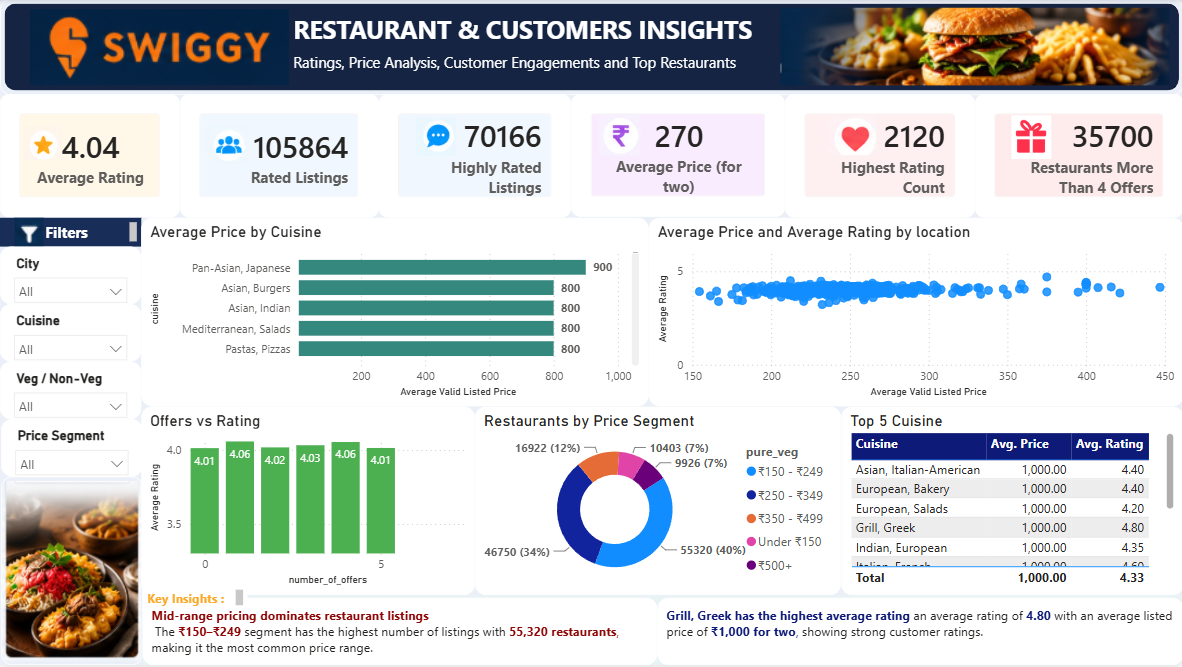

Layout of this report page (visuals, bound fields, positions):
{"tool":"powerbi","page":{"name":"Restaurants & Customer Insights","canvas":[1280,720],"ordinal":1},"visuals":[{"type":"cardVisual","fields":{"Data":["swiggy_restaurant_analytics swiggy_cleaned.Average Rating"]},"box":[0,102.7,194.7,133.8],"z":0},{"type":"shape","box":[0,0,1280.3,104.1],"z":1000},{"type":"textbox","box":[312.3,9.5,516.4,83.8],"z":2000},{"type":"textbox","box":[312.3,52.7,584,31.1],"z":3000},{"type":"image","box":[1.4,516.4,152.8,204.1],"z":4000},{"type":"image","box":[32.4,1.4,279.8,101.4],"z":5000},{"type":"image","box":[828.7,9.5,451.5,83.8],"z":6000},{"type":"textbox","box":[0,236.6,152.8,31.1],"z":7000},{"type":"image","box":[14.9,236.6,32.4,31.1],"z":8000},{"type":"cardVisual","fields":{"Data":["swiggy_restaurant_analytics swiggy_cleaned.Rated Listings"]},"box":[194.7,102.7,215,133.8],"z":9000},{"type":"cardVisual","fields":{"Data":["swiggy_restaurant_analytics swiggy_cleaned.Total Reviews"]},"box":[409.6,102.7,208.2,133.8],"z":10000},{"type":"cardVisual","fields":{"Data":["swiggy_restaurant_analytics swiggy_cleaned.Average Listed Price"]},"box":[617.8,102.7,231.2,132.5],"z":11000},{"type":"cardVisual","fields":{"Data":["swiggy_restaurant_analytics swiggy_cleaned.Highest Rating"]},"box":[849,102.7,205.5,133.8],"z":12000},{"type":"cardVisual","fields":{"Data":["swiggy_restaurant_analytics swiggy_cleaned.Restaurants With Offers"]},"box":[1054.2,102.7,225.8,133.8],"z":13000},{"type":"slicer","fields":{"Values":["swiggy_restaurant_analytics swiggy_cleaned.location"]},"box":[0,267.7,152.8,62.2],"z":14000},{"type":"slicer","fields":{"Values":["swiggy_restaurant_analytics swiggy_cleaned.cuisine"]},"box":[0,329.9,152.8,62.2],"z":15000},{"type":"slicer","fields":{"Values":["swiggy_restaurant_analytics swiggy_cleaned.pure_veg"]},"box":[0,392.1,152.8,62.2],"z":16000},{"type":"slicer","fields":{"Values":["swiggy_restaurant_analytics swiggy_cleaned.Price Segment"]},"box":[1.4,454.2,152.8,62.2],"z":17000},{"type":"clusteredColumnChart","title":"Offers vs Rating","fields":{"Category":["swiggy_restaurant_analytics swiggy_cleaned.number_of_offers"],"Y":["swiggy_restaurant_analytics swiggy_cleaned.Average Rating"]},"box":[152.8,440.7,361,204.1],"z":18000},{"type":"donutChart","title":"Restaurants by Price Segment","fields":{"Category":["swiggy_restaurant_analytics swiggy_cleaned.Price Segment"],"Y":["swiggy_restaurant_analytics swiggy_cleaned.Total Listings"]},"box":[513.7,440.7,396.1,204.1],"z":19000},{"type":"textbox","box":[154.1,644.9,1126.2,75.7],"z":20000},{"type":"textbox","box":[154.1,647.6,557,73],"z":21000},{"type":"textbox","box":[154.1,634.1,113.6,27],"z":23000},{"type":"textbox","box":[711.1,647.6,569.2,73],"z":24000},{"type":"image","box":[25.7,132.5,41.9,47.3],"z":25000},{"type":"image","box":[224.4,132.5,43.3,47.3],"z":26000},{"type":"image","box":[447.5,128.4,48.7,41.9],"z":27000},{"type":"image","box":[639.5,124.4,62.2,46],"z":28000},{"type":"image","box":[892.3,124.4,59.5,44.6],"z":29000},{"type":"image","box":[1088.3,125.7,54.1,47.3],"z":30000},{"type":"scatterChart","title":"Average Price and Average Rating by location","fields":{"Y":["swiggy_restaurant_analytics swiggy_cleaned.Average Rating"],"X":["swiggy_restaurant_analytics swiggy_cleaned.Average Valid Listed Price"],"Category":["swiggy_restaurant_analytics swiggy_cleaned.location"]},"box":[701.6,236.6,578.6,204.1],"z":31000},{"type":"clusteredBarChart","title":"Average  Price by Cuisine","fields":{"Category":["swiggy_restaurant_analytics swiggy_cleaned.cuisine"],"Y":["swiggy_restaurant_analytics swiggy_cleaned.Average Valid Listed Price"]},"box":[152.8,236.6,548.9,204.1],"z":32000},{"type":"tableEx","title":"Top 5 Cuisine","fields":{"Values":["swiggy_restaurant_analytics swiggy_cleaned.cuisine","swiggy_restaurant_analytics swiggy_cleaned.Average Valid Listed Price","swiggy_restaurant_analytics swiggy_cleaned.Average Rating"]},"box":[909.6,440.7,370.4,204.1],"z":33000}]}

Visuals, with their boxes in screenshot pixels (x1, y1, x2, y2), scaled from the page's 1280x720 canvas onto the 1182x667 screenshot:
cardVisual - swiggy_restaurant_analytics swiggy_cleaned.Average Rating: BBox(0, 95, 180, 219)
shape: BBox(0, 0, 1181, 96)
textbox: BBox(288, 9, 765, 86)
textbox: BBox(288, 49, 828, 78)
image: BBox(1, 478, 142, 666)
image: BBox(30, 1, 288, 95)
image: BBox(765, 9, 1181, 86)
textbox: BBox(0, 219, 141, 248)
image: BBox(14, 219, 44, 248)
cardVisual - swiggy_restaurant_analytics swiggy_cleaned.Rated Listings: BBox(180, 95, 378, 219)
cardVisual - swiggy_restaurant_analytics swiggy_cleaned.Total Reviews: BBox(378, 95, 570, 219)
cardVisual - swiggy_restaurant_analytics swiggy_cleaned.Average Listed Price: BBox(570, 95, 784, 218)
cardVisual - swiggy_restaurant_analytics swiggy_cleaned.Highest Rating: BBox(784, 95, 974, 219)
cardVisual - swiggy_restaurant_analytics swiggy_cleaned.Restaurants With Offers: BBox(973, 95, 1181, 219)
slicer - swiggy_restaurant_analytics swiggy_cleaned.location: BBox(0, 248, 141, 306)
slicer - swiggy_restaurant_analytics swiggy_cleaned.cuisine: BBox(0, 306, 141, 363)
slicer - swiggy_restaurant_analytics swiggy_cleaned.pure_veg: BBox(0, 363, 141, 421)
slicer - swiggy_restaurant_analytics swiggy_cleaned.Price Segment: BBox(1, 421, 142, 478)
"Offers vs Rating" clusteredColumnChart: BBox(141, 408, 474, 597)
"Restaurants by Price Segment" donutChart: BBox(474, 408, 840, 597)
textbox: BBox(142, 597, 1181, 666)
textbox: BBox(142, 600, 657, 666)
textbox: BBox(142, 587, 247, 612)
textbox: BBox(657, 600, 1181, 666)
image: BBox(24, 123, 62, 167)
image: BBox(207, 123, 247, 167)
image: BBox(413, 119, 458, 158)
image: BBox(591, 115, 648, 158)
image: BBox(824, 115, 879, 157)
image: BBox(1005, 116, 1055, 160)
"Average Price and Average Rating by location" scatterChart: BBox(648, 219, 1181, 408)
"Average  Price by Cuisine" clusteredBarChart: BBox(141, 219, 648, 408)
"Top 5 Cuisine" tableEx: BBox(840, 408, 1181, 597)
